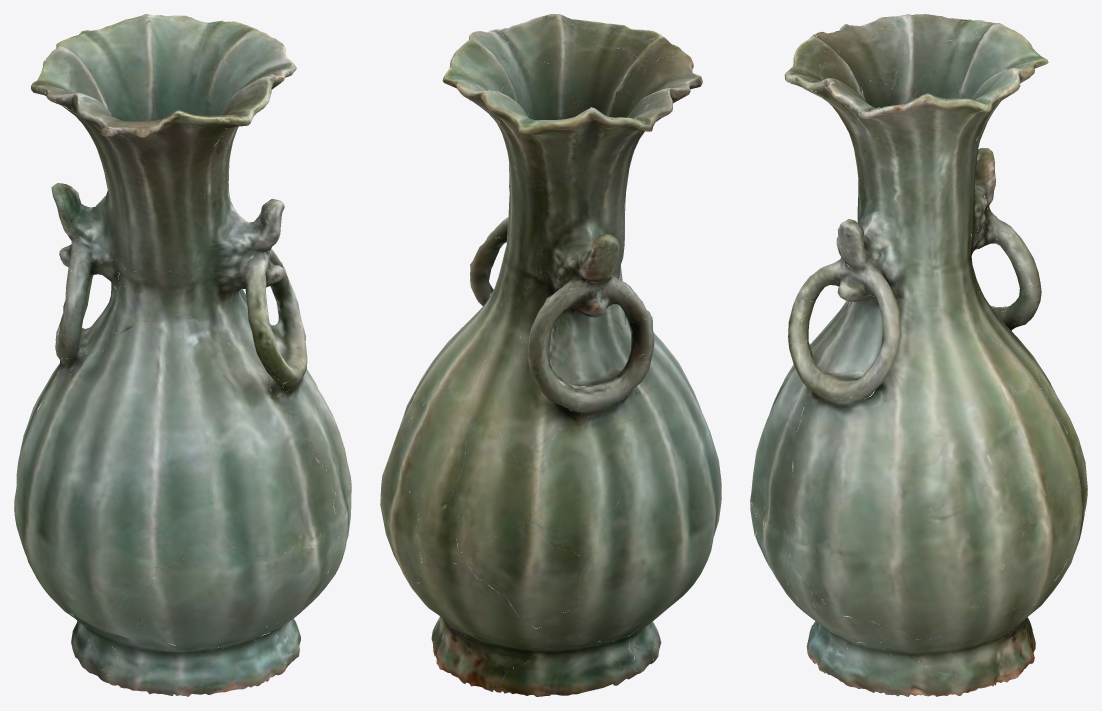
Rendered from yuan-celadon-vase.glb.
3 renders of one model, left to right at view 1: azimuth 30°, elevation 25°; view 2: azimuth 150°, elevation 25°; view 3: azimuth 270°, elevation 25°, orthographic.
Visible parts, largest first — view 1: Object_4; view 2: Object_4; view 3: Object_4.
Boxes of the visible parts, x1=… form: Object_4: x1=14, y1=14, x2=351, y2=696; Object_4: x1=380, y1=14, x2=721, y2=696; Object_4: x1=750, y1=14, x2=1087, y2=696.
Size of the model in its own units: 0.1298 by 0.2567 by 0.1329.
1 material, 1 textured.
